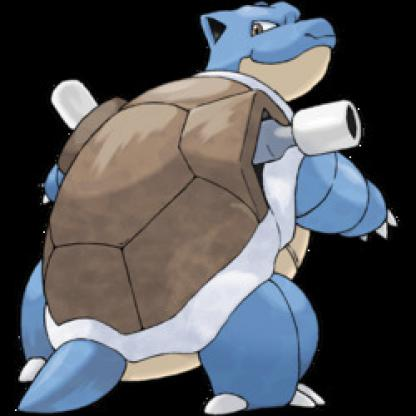Blastoise: (1, 1, 413, 416)
